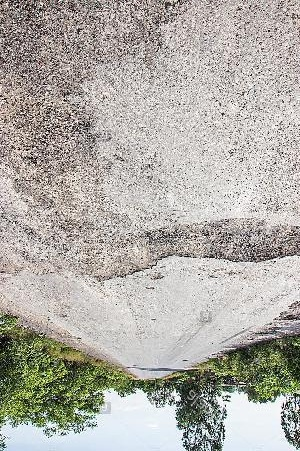pothole: (170, 214, 299, 265), (83, 224, 160, 286)
